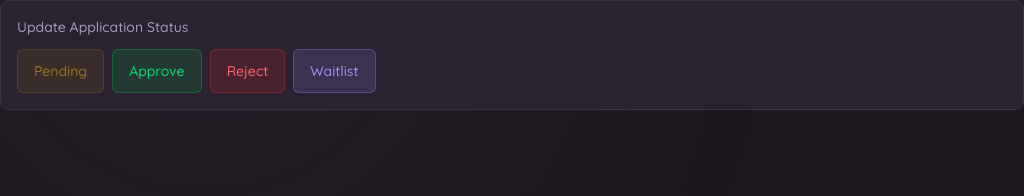
it: StatusUpdateButtons — confirmation › returns to idle on Cancel without updating
Step 1. Click the button "Approve" → [157, 71], box [112,49,202,93]
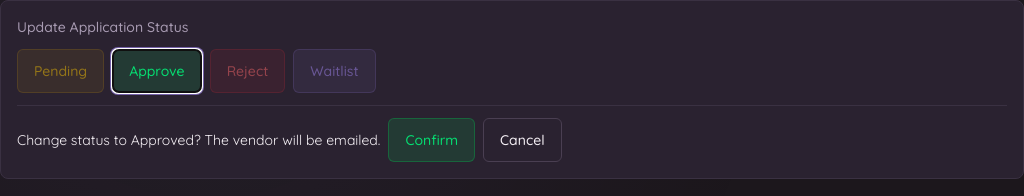
Step 2. Click the button "Cancel" → [522, 140], box [483,118,562,162]
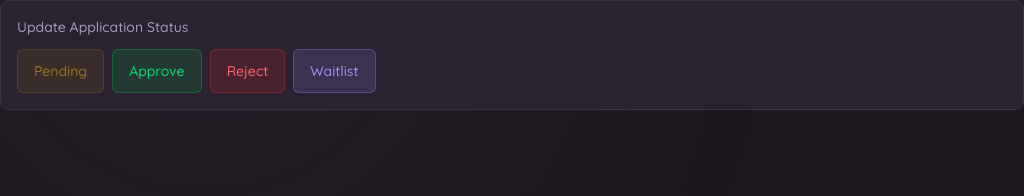
Expected: the button "Approve" is enabled, [112,49,202,93]
Expected: the text "Change status to" is gone
